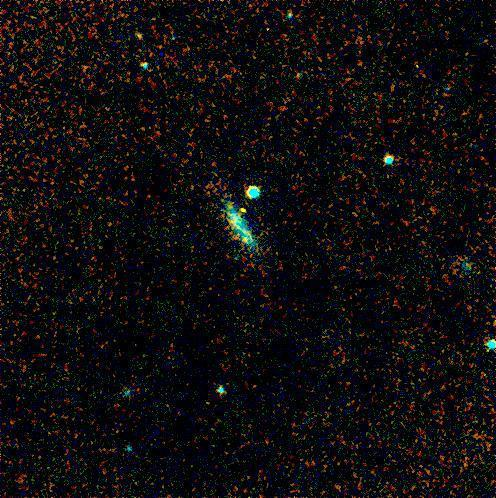star: (226, 193, 256, 223)
